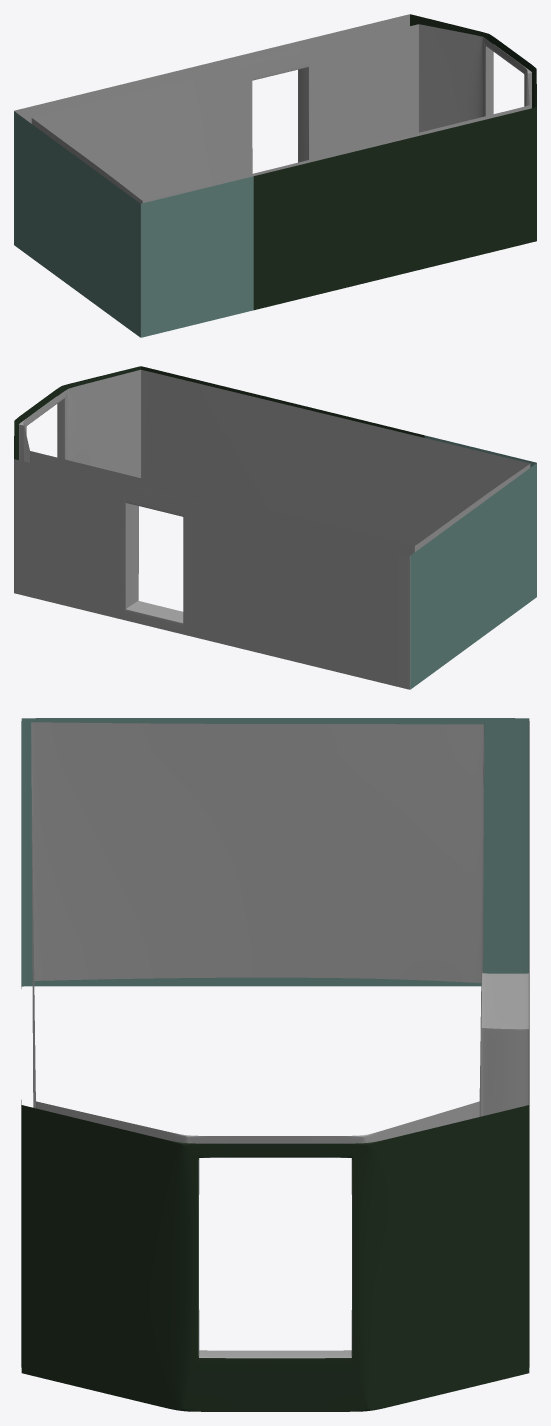
The model's file is SM_Piano2.fbx.
3 views of the same model, one above another, from view 1: azimuth 30°, elevation 25°; view 2: azimuth 150°, elevation 25°; view 3: azimuth 270°, elevation 25° (orthographic). The views are drawn at different scales.
Parts seen in each view (by area): view 1: polySurface1165; view 2: polySurface1165; view 3: polySurface1165.
Boxes of the visible parts, bbox=[...] form: polySurface1165: bbox=[14, 14, 536, 337]; polySurface1165: bbox=[14, 366, 536, 689]; polySurface1165: bbox=[21, 718, 529, 1411].
Size of the model in its own units: 1015 by 299 by 513.
